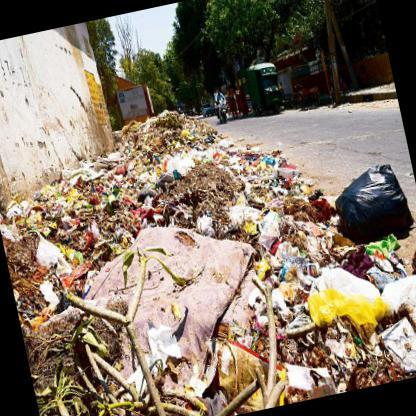Garbage: (299, 260, 378, 344), (228, 168, 298, 253), (321, 322, 389, 392), (375, 245, 415, 363), (373, 303, 415, 382), (2, 184, 57, 230), (219, 131, 270, 175), (155, 129, 195, 174), (46, 233, 87, 268), (62, 210, 94, 247), (51, 184, 82, 216), (183, 122, 190, 148)
